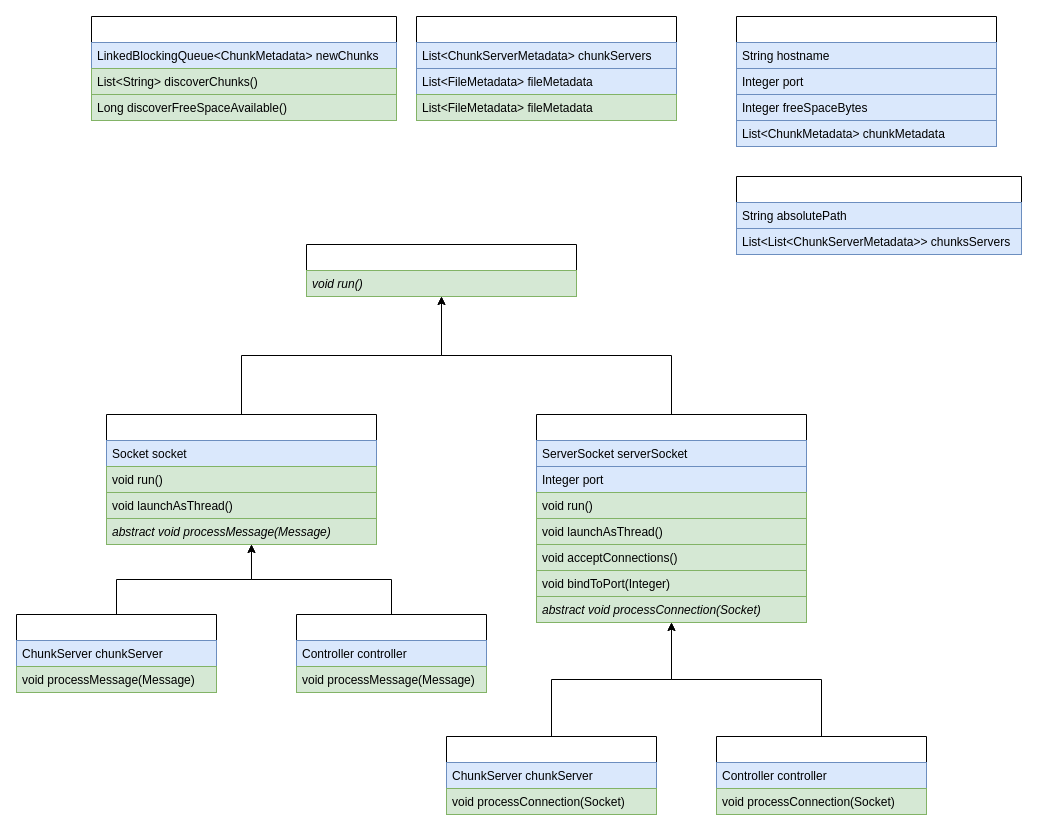
This 1038x831 diagram has some shape labels left out. The shapes that lost their labels are listed below. From the top down, each one's box as (x1, y1, x2, y2) in pixels, then its label:
(90, 16, 396, 120): ChunkServer
(416, 16, 676, 120): Controller
(736, 16, 996, 146): ChunkServerMetadata
(736, 176, 1022, 254): FileMetadata
(306, 244, 576, 296): interface Runnable
(106, 414, 376, 544): abstract Processor
(536, 414, 806, 622): abstract Server
(16, 614, 216, 692): ChunkServerProcessor
(296, 614, 486, 692): ControllerProcessor
(446, 736, 656, 814): ChunkServerServer
(716, 736, 926, 814): ControllerServer
